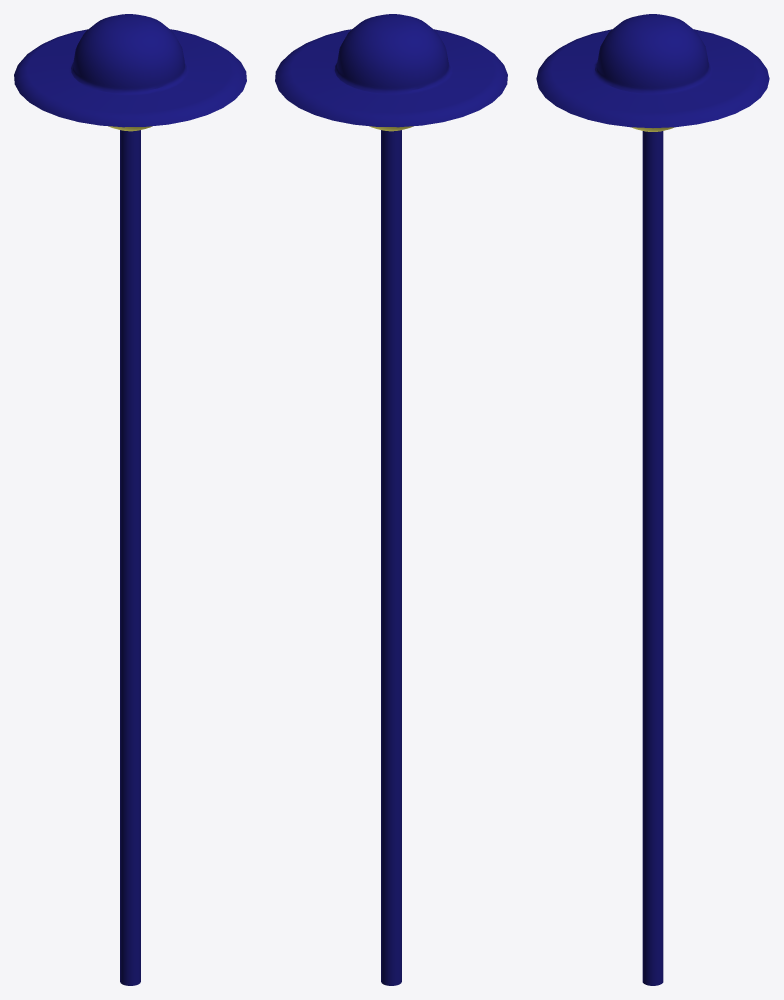
The model's file is lantarn.fbx.
3 renders of one model, left to right at view 1: azimuth 30°, elevation 25°; view 2: azimuth 150°, elevation 25°; view 3: azimuth 270°, elevation 25°, orthographic.
Parts seen in each view (by area): view 1: Sphere; view 2: Sphere; view 3: Sphere.
Boxes of the visible parts, x1=… form: Sphere: x1=14, y1=14, x2=246, y2=985; Sphere: x1=275, y1=14, x2=507, y2=985; Sphere: x1=536, y1=14, x2=769, y2=985.
Size of the model in its own units: 438 by 1988 by 438.
